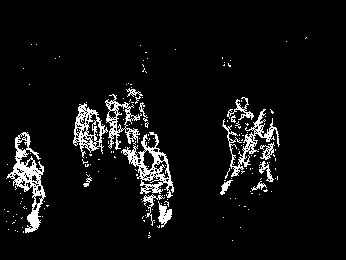person: (136, 131, 176, 230), (220, 95, 257, 198), (9, 130, 45, 233), (73, 103, 103, 189), (251, 108, 280, 194), (104, 93, 130, 172), (124, 79, 151, 141)
